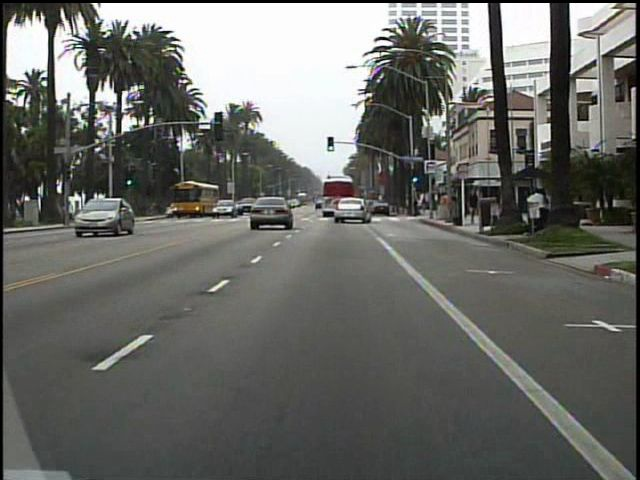person: (526, 183, 549, 237), (466, 184, 479, 227)
